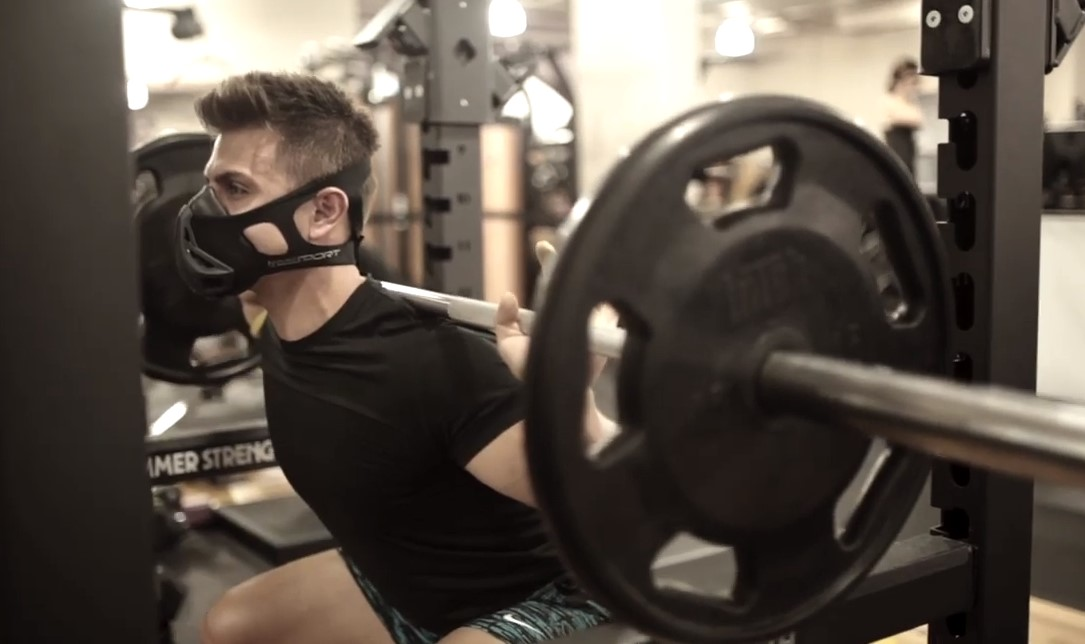face_with_mask: (171, 103, 381, 306)
